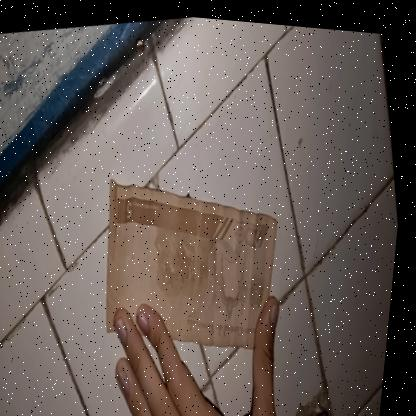five-back-vef: (84, 146, 306, 372)
